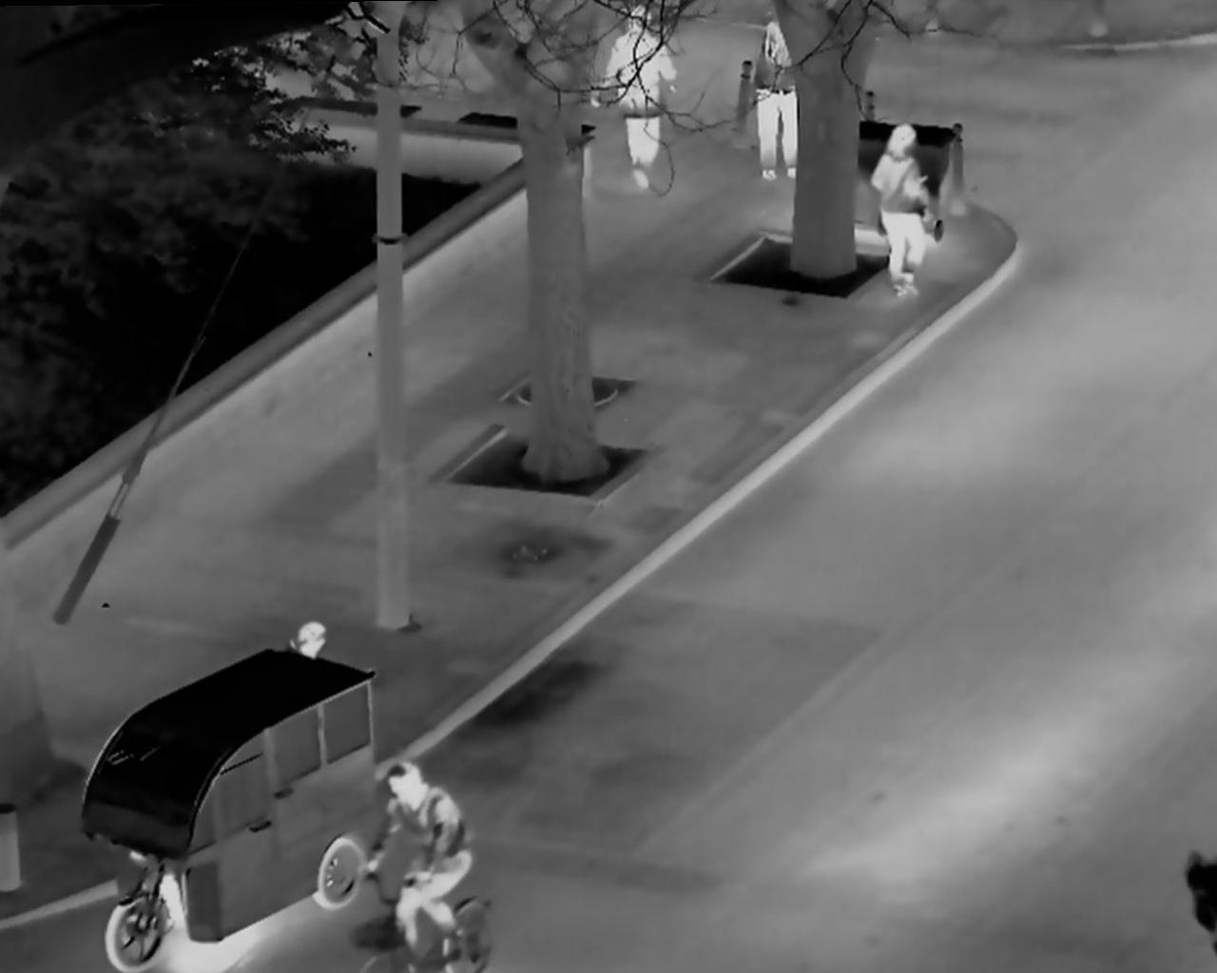person: (356, 754, 498, 955), (866, 106, 948, 315), (599, 5, 681, 191), (745, 14, 811, 188), (285, 620, 330, 659)
